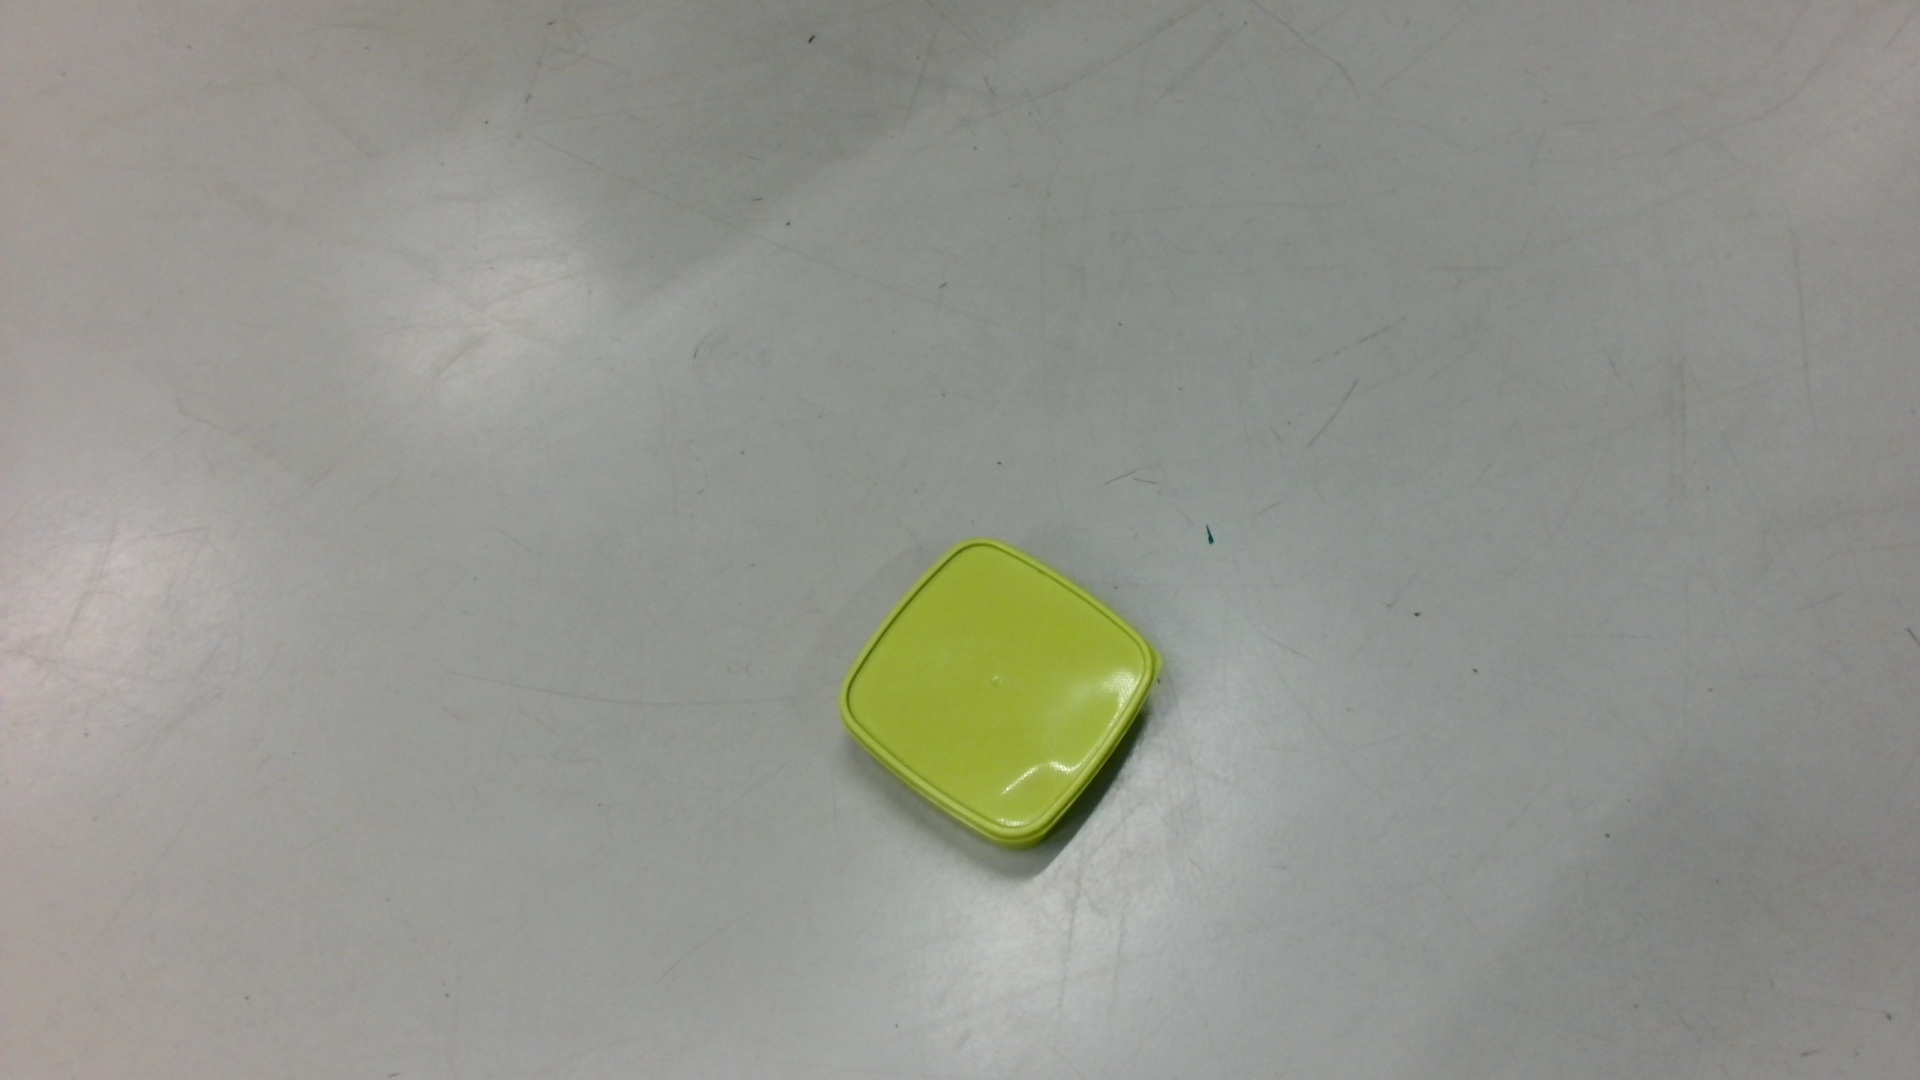Box: (833, 531, 1174, 860)
